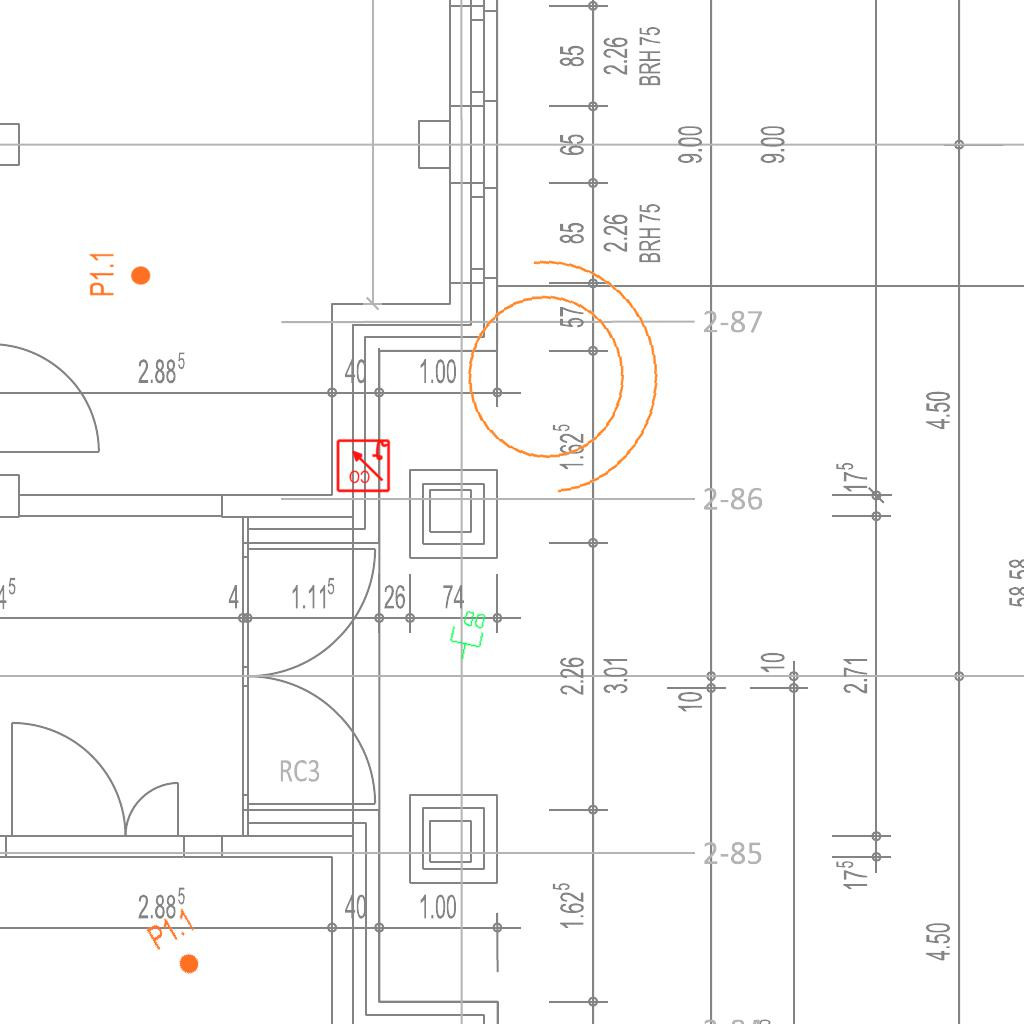Datenanschluss_zweifach: (445, 606, 490, 664)
Downlight_LED_Einbauleuchten_Flur: (144, 905, 216, 985), (88, 251, 152, 297)
ROA_Rauchmelder_optisch_mit_Signalgeber_(Sockelsirene): (335, 437, 391, 493)
Scheinwerfer_fuer_Alarmbeleuchtung: (429, 226, 681, 513)
